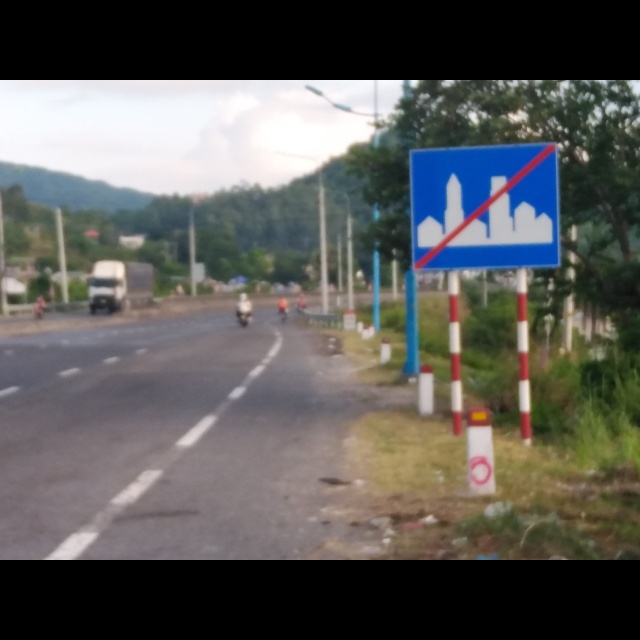Hết khu đông dân cư: (404, 144, 558, 275)
